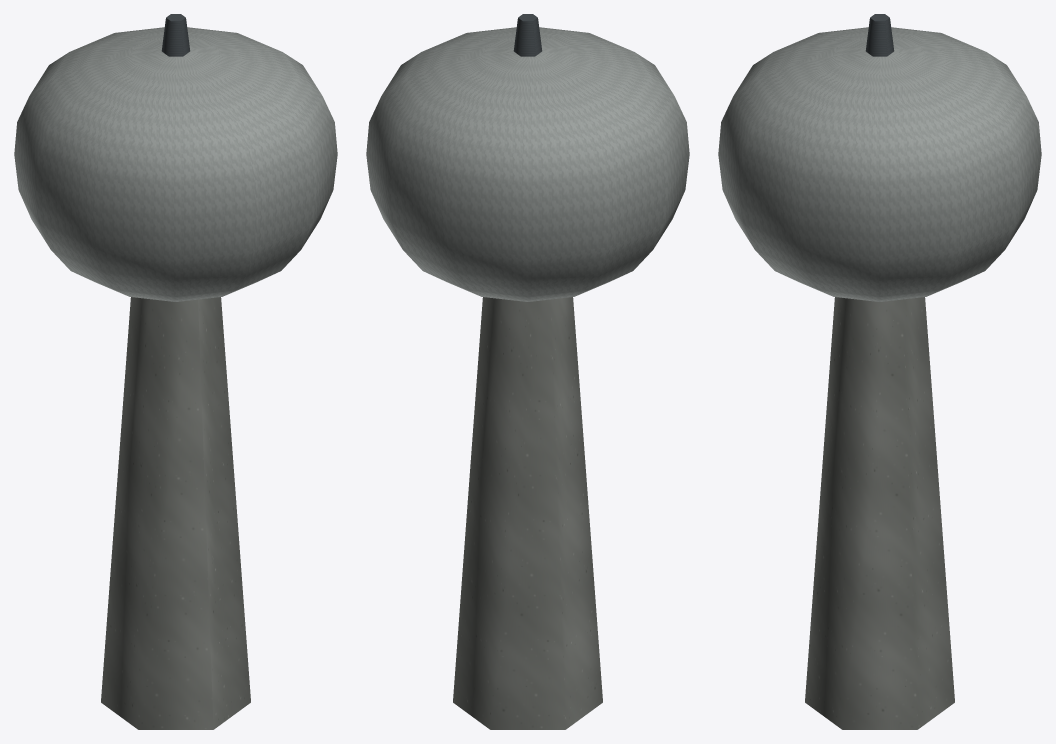
The model's file is service-water-tower-elevated.lod2.gltf.
3 views of the same model, side by side, from view 1: azimuth 30°, elevation 25°; view 2: azimuth 150°, elevation 25°; view 3: azimuth 270°, elevation 25° (orthographic).
Visible parts, largest first — view 1: service-water-tower-elevated; view 2: service-water-tower-elevated; view 3: service-water-tower-elevated.
Boxes of the visible parts, x1,y1,x2,y2 form: service-water-tower-elevated: (14,14,337,729); service-water-tower-elevated: (366,14,689,729); service-water-tower-elevated: (718,14,1041,729).
Bounding box in the file's own units: 4.52 × 10.56 × 4.52.
Materials: 3 (3 with a texture image).
